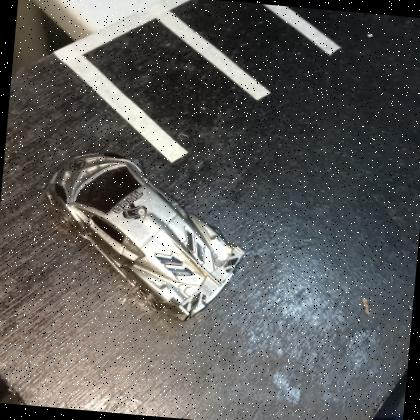Car: (48, 155, 244, 322)
